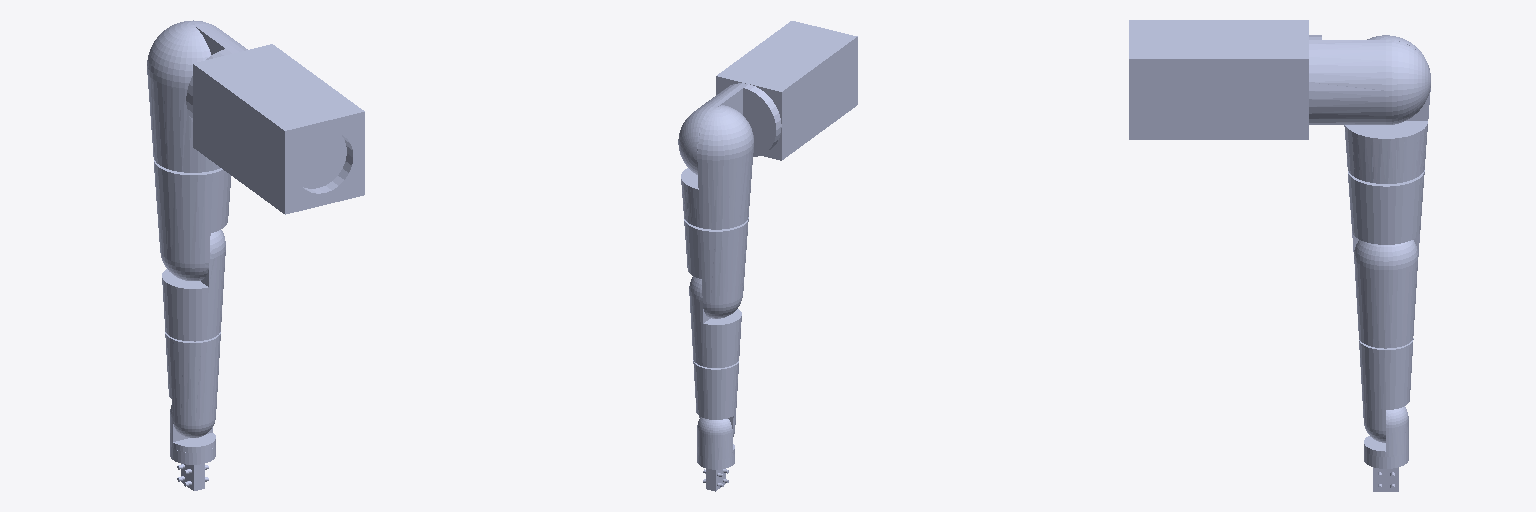
The robot description file, URDF, robot "2robot7dofLeftArm":
<robot
  name="2robot7dofLeftArm">
  <link
    name="base_link">
    <inertial>
      <origin
        xyz="0 0 0"
        rpy="0 0 0" />
      <mass
        value="2" />
      <inertia
        ixx="0.1"
        ixy="0"
        ixz="0"
        iyy="0.1"
        iyz="0"
        izz="0.1" />
    </inertial>
    <visual>
      <origin
        xyz="0 0 0"
        rpy="0 0 0" />
      <geometry>
        <mesh
          filename="package://2robot7dofLeftArm/meshes/base_link.STL" />
      </geometry>
      <material
        name="">
        <color
          rgba="0.79216 0.81961 0.93333 1" />
      </material>
    </visual>
    <collision>
      <origin
        xyz="0 0 0"
        rpy="0 0 0" />
      <geometry>
        <mesh
          filename="package://2robot7dofLeftArm/meshes/base_link.STL" />
      </geometry>
    </collision>
  </link>
  <link
    name="link1">
    <inertial>
      <origin
        xyz="0 0.015 -0.095087"
        rpy="0 0 0" />
      <mass
        value="0.9" />
      <inertia
        ixx="0.01"
        ixy="0"
        ixz="0"
        iyy="0.01"
        iyz="0"
        izz="0.01" />
    </inertial>
    <visual>
      <origin
        xyz="0 0 0"
        rpy="0 0 0" />
      <geometry>
        <mesh
          filename="package://2robot7dofLeftArm/meshes/link1.STL" />
      </geometry>
      <material
        name="">
        <color
          rgba="0.79216 0.81961 0.93333 1" />
      </material>
    </visual>
    <collision>
      <origin
        xyz="0 0 0"
        rpy="0 0 0" />
      <geometry>
        <mesh
          filename="package://2robot7dofLeftArm/meshes/link1.STL" />
      </geometry>
    </collision>
  </link>
  <joint
    name="joint1"
    type="revolute">
    <origin
      xyz="0 0.12 0"
      rpy="1.5708 1.5708 0" />
    <parent
      link="base_link" />
    <child
      link="link1" />
    <axis
      xyz="0 0 1" />
    <limit
      lower="-3.14"
      upper="3.14"
      effort="0"
      velocity="0" />
    <safety_controller
      soft_upper="3.14"
      soft_lower="-3.14"
      k_position="2"
      k_velocity="2" />
  </joint>
  <link
    name="link2">
    <inertial>
      <origin
        xyz="0.080412 -0.010907 0"
        rpy="0 0 0" />
      <mass
        value="0.9" />
      <inertia
        ixx="0.01"
        ixy="0"
        ixz="0"
        iyy="0.01"
        iyz="0"
        izz="0.01" />
    </inertial>
    <visual>
      <origin
        xyz="0 0 0"
        rpy="0 0 0" />
      <geometry>
        <mesh
          filename="package://2robot7dofLeftArm/meshes/link2.STL" />
      </geometry>
      <material
        name="">
        <color
          rgba="0.79216 0.81961 0.93333 1" />
      </material>
    </visual>
    <collision>
      <origin
        xyz="0 0 0"
        rpy="0 0 0" />
      <geometry>
        <mesh
          filename="package://2robot7dofLeftArm/meshes/link2.STL" />
      </geometry>
    </collision>
  </link>
  <joint
    name="joint2"
    type="revolute">
    <origin
      xyz="0 0 -0.14"
      rpy="0 0 0" />
    <parent
      link="link1" />
    <child
      link="link2" />
    <axis
      xyz="0 1 0" />
    <limit
      lower="-3.14"
      upper="3.14"
      effort="0"
      velocity="0" />
    <safety_controller
      soft_upper="3.14"
      soft_lower="-3.14"
      k_position="2"
      k_velocity="2" />
  </joint>
  <link
    name="link3">
    <inertial>
      <origin
        xyz="0.08905 -0.004285 0"
        rpy="0 0 0" />
      <mass
        value="0.9" />
      <inertia
        ixx="0.01"
        ixy="0"
        ixz="0"
        iyy="0.01"
        iyz="0"
        izz="0.01" />
    </inertial>
    <visual>
      <origin
        xyz="0 0 0"
        rpy="0 0 0" />
      <geometry>
        <mesh
          filename="package://2robot7dofLeftArm/meshes/link3.STL" />
      </geometry>
      <material
        name="">
        <color
          rgba="0.79216 0.81961 0.93333 1" />
      </material>
    </visual>
    <collision>
      <origin
        xyz="0 0 0"
        rpy="0 0 0" />
      <geometry>
        <mesh
          filename="package://2robot7dofLeftArm/meshes/link3.STL" />
      </geometry>
    </collision>
  </link>
  <joint
    name="joint3"
    type="revolute">
    <origin
      xyz="0.15 0 0"
      rpy="0 0 0" />
    <parent
      link="link2" />
    <child
      link="link3" />
    <axis
      xyz="1 0 0" />
    <limit
      lower="-3.14"
      upper="3.14"
      effort="0"
      velocity="0" />
    <safety_controller
      soft_upper="3.14"
      soft_lower="-3.14"
      k_position="2"
      k_velocity="2" />
  </joint>
  <link
    name="link4">
    <inertial>
      <origin
        xyz="0.076515 0.0058602 0"
        rpy="0 0 0" />
      <mass
        value="0.7" />
      <inertia
        ixx="0.01"
        ixy="0"
        ixz="0"
        iyy="0.01"
        iyz="0"
        izz="0.01" />
    </inertial>
    <visual>
      <origin
        xyz="0 0 0"
        rpy="0 0 0" />
      <geometry>
        <mesh
          filename="package://2robot7dofLeftArm/meshes/link4.STL" />
      </geometry>
      <material
        name="">
        <color
          rgba="0.79216 0.81961 0.93333 1" />
      </material>
    </visual>
    <collision>
      <origin
        xyz="0 0 0"
        rpy="0 0 0" />
      <geometry>
        <mesh
          filename="package://2robot7dofLeftArm/meshes/link4.STL" />
      </geometry>
    </collision>
  </link>
  <joint
    name="joint4"
    type="revolute">
    <origin
      xyz="0.15 0 0"
      rpy="0 0 0" />
    <parent
      link="link3" />
    <child
      link="link4" />
    <axis
      xyz="0 1 0" />
    <limit
      lower="-3.14"
      upper="3.14"
      effort="0"
      velocity="0" />
    <safety_controller
      soft_upper="3.14"
      soft_lower="-3.14"
      k_position="2"
      k_velocity="2" />
  </joint>
  <link
    name="link5">
    <inertial>
      <origin
        xyz="0.079669 0 0.0023115"
        rpy="0 0 0" />
      <mass
        value="0.7" />
      <inertia
        ixx="0.01"
        ixy="0"
        ixz="0"
        iyy="0.01"
        iyz="0"
        izz="0.01" />
    </inertial>
    <visual>
      <origin
        xyz="0 0 0"
        rpy="0 0 0" />
      <geometry>
        <mesh
          filename="package://2robot7dofLeftArm/meshes/link5.STL" />
      </geometry>
      <material
        name="">
        <color
          rgba="0.79216 0.81961 0.93333 1" />
      </material>
    </visual>
    <collision>
      <origin
        xyz="0 0 0"
        rpy="0 0 0" />
      <geometry>
        <mesh
          filename="package://2robot7dofLeftArm/meshes/link5.STL" />
      </geometry>
    </collision>
  </link>
  <joint
    name="joint5"
    type="revolute">
    <origin
      xyz="0.14 0 0"
      rpy="0 0 0" />
    <parent
      link="link4" />
    <child
      link="link5" />
    <axis
      xyz="1 0 0" />
    <limit
      lower="-3.14"
      upper="3.14"
      effort="0"
      velocity="0" />
    <safety_controller
      soft_upper="3.14"
      soft_lower="-3.14"
      k_position="2"
      k_velocity="2" />
  </joint>
  <link
    name="link6">
    <inertial>
      <origin
        xyz="0.025545 0 -0.0096823"
        rpy="0 0 0" />
      <mass
        value="0.14" />
      <inertia
        ixx="0.01"
        ixy="0"
        ixz="0"
        iyy="0.01"
        iyz="0"
        izz="0.01" />
    </inertial>
    <visual>
      <origin
        xyz="0 0 0"
        rpy="0 0 0" />
      <geometry>
        <mesh
          filename="package://2robot7dofLeftArm/meshes/link6.STL" />
      </geometry>
      <material
        name="">
        <color
          rgba="0.79216 0.81961 0.93333 1" />
      </material>
    </visual>
    <collision>
      <origin
        xyz="0 0 0"
        rpy="0 0 0" />
      <geometry>
        <mesh
          filename="package://2robot7dofLeftArm/meshes/link6.STL" />
      </geometry>
    </collision>
  </link>
  <joint
    name="joint6"
    type="revolute">
    <origin
      xyz="0.14 0 0"
      rpy="0 0 0" />
    <parent
      link="link5" />
    <child
      link="link6" />
    <axis
      xyz="0 0 1" />
    <limit
      lower="-3.14"
      upper="3.14"
      effort="0"
      velocity="0" />
    <safety_controller
      soft_upper="3.14"
      soft_lower="-3.14"
      k_position="2"
      k_velocity="2" />
  </joint>
  <link
    name="link7">
    <inertial>
      <origin
        xyz="0.026219 0 0"
        rpy="0 0 0" />
      <mass
        value="0.14" />
      <inertia
        ixx="0.01"
        ixy="0"
        ixz="0"
        iyy="0.01"
        iyz="0"
        izz="0.01" />
    </inertial>
    <visual>
      <origin
        xyz="0 0 0"
        rpy="0 0 0" />
      <geometry>
        <mesh
          filename="package://2robot7dofLeftArm/meshes/link7.STL" />
      </geometry>
      <material
        name="">
        <color
          rgba="0.79216 0.81961 0.93333 1" />
      </material>
    </visual>
    <collision>
      <origin
        xyz="0 0 0"
        rpy="0 0 0" />
      <geometry>
        <mesh
          filename="package://2robot7dofLeftArm/meshes/link7.STL" />
      </geometry>
    </collision>
  </link>
  <joint
    name="joint7"
    type="revolute">
    <origin
      xyz="0.05 0 0"
      rpy="0 0 0" />
    <parent
      link="link6" />
    <child
      link="link7" />
    <axis
      xyz="1 0 0" />
    <limit
      lower="-3.14"
      upper="3.14"
      effort="0"
      velocity="0" />
    <safety_controller
      soft_upper="3.14"
      soft_lower="-3.14"
      k_position="2"
      k_velocity="2" />
  </joint>
</robot>

--- What the picture shows (computed from the rendered views, not written in the file) ---
The picture shows the robot from 3 angles, left to right: view 1: azimuth 30°, elevation 25°; view 2: azimuth 150°, elevation 25°; view 3: azimuth 270°, elevation 25°; orthographic projection.
Robot: 2robot7dofLeftArm — 8 links, 7 joints (7 revolute); root link base_link; default pose: all joints at 0.
Links seen in each view (by area): view 1: base_link, link3, link2, link5, link4, link7, link1, link6; view 2: base_link, link2, link3, link1, link4, link5, link6, link7; view 3: base_link, link1, link4, link2, link3, link5, link6, link7.
Boxes of the visible links, x1,y1,x2,y2 form: base_link: [193, 44, 364, 214]; link3: [154, 160, 230, 280]; link2: [147, 22, 219, 172]; link5: [165, 332, 220, 437]; link4: [162, 230, 225, 341]; link7: [170, 445, 215, 490]; link1: [184, 20, 247, 121]; link6: [170, 405, 215, 452]; base_link: [716, 21, 857, 160]; link2: [681, 105, 753, 229]; link3: [684, 217, 748, 318]; link1: [678, 83, 781, 174]; link4: [689, 276, 741, 367]; link5: [693, 360, 738, 436]; link6: [697, 417, 734, 459]; link7: [697, 453, 734, 491]; base_link: [1129, 20, 1308, 139]; link1: [1309, 35, 1430, 124]; link4: [1354, 240, 1417, 348]; link2: [1344, 35, 1430, 183]; link3: [1348, 170, 1424, 256]; link5: [1359, 338, 1413, 442]; link6: [1364, 406, 1408, 456]; link7: [1364, 449, 1408, 491].
Size in the robot's own frame: 0.14 by 0.47 by 0.7702 metres.
Meshes: 8 distinct files referenced, 8 mesh visuals loaded (8 binary STL).